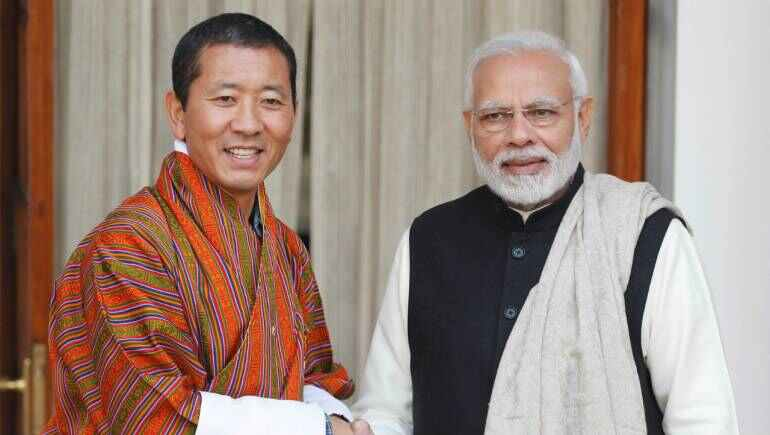modi: (430, 24, 621, 215)
